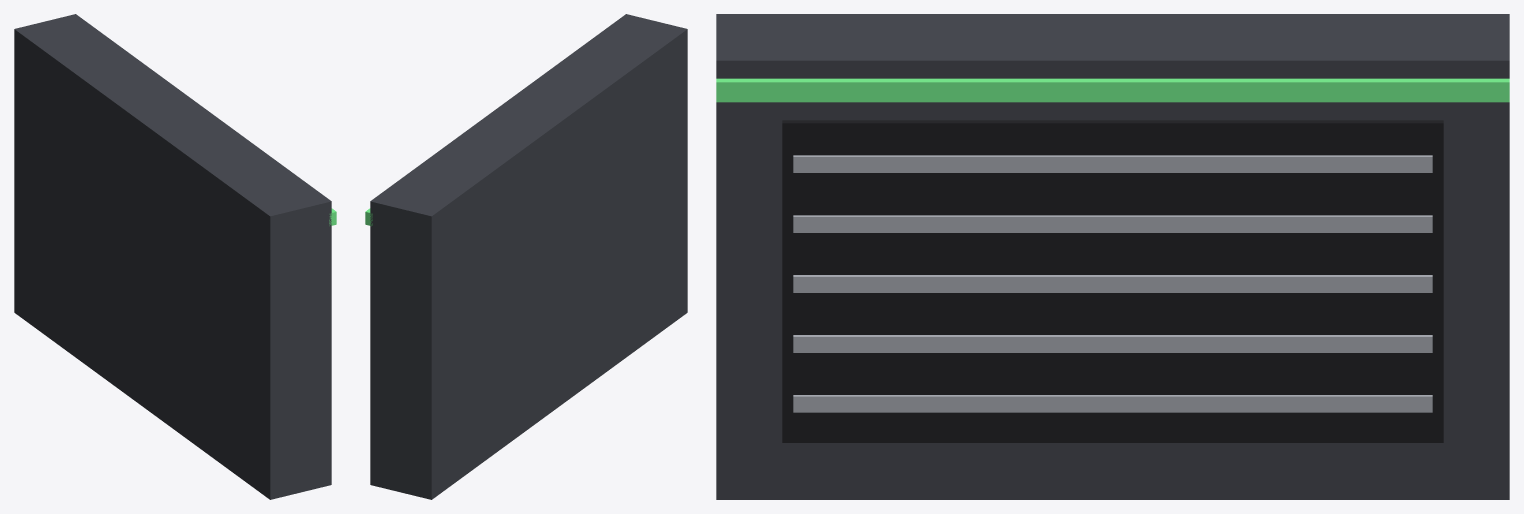
The model's file is SM_DuctFrame.fbx.
3 views of the same model, side by side, from view 1: azimuth 30°, elevation 25°; view 2: azimuth 150°, elevation 25°; view 3: azimuth 270°, elevation 25° (orthographic). The views are drawn at different scales.
Parts seen in each view (by area): view 1: SM_DuctFrame; view 2: SM_DuctFrame; view 3: SM_DuctFrame.
Part boxes in pixels (bbox=[...]): SM_DuctFrame: bbox=[14, 14, 336, 499]; SM_DuctFrame: bbox=[365, 14, 687, 499]; SM_DuctFrame: bbox=[716, 14, 1509, 499].
Bounding box in the file's own units: 27.5 × 110 × 180.
